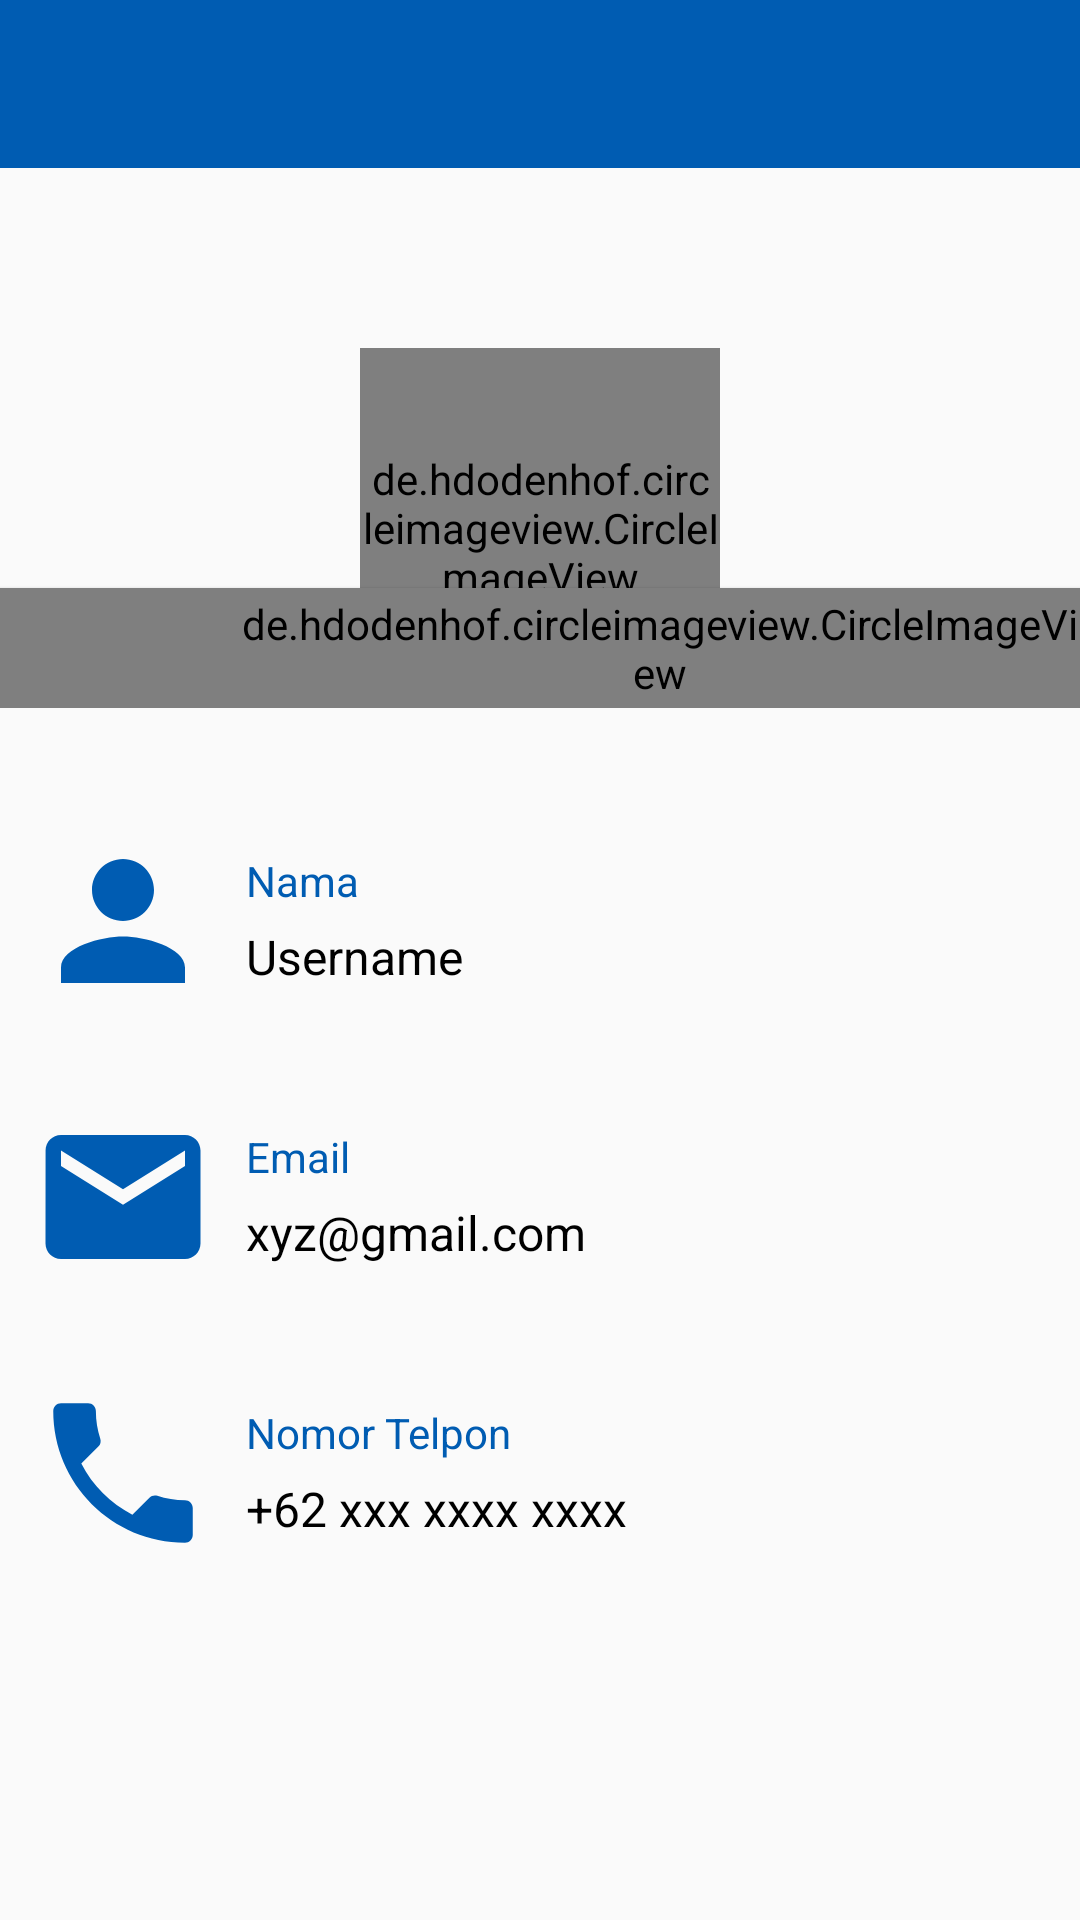

Point at icon controls on the screen. Image size 1080px×1920px, points as (x=x, y=y).
call: (x=123, y=1473)
person: (x=123, y=921)
